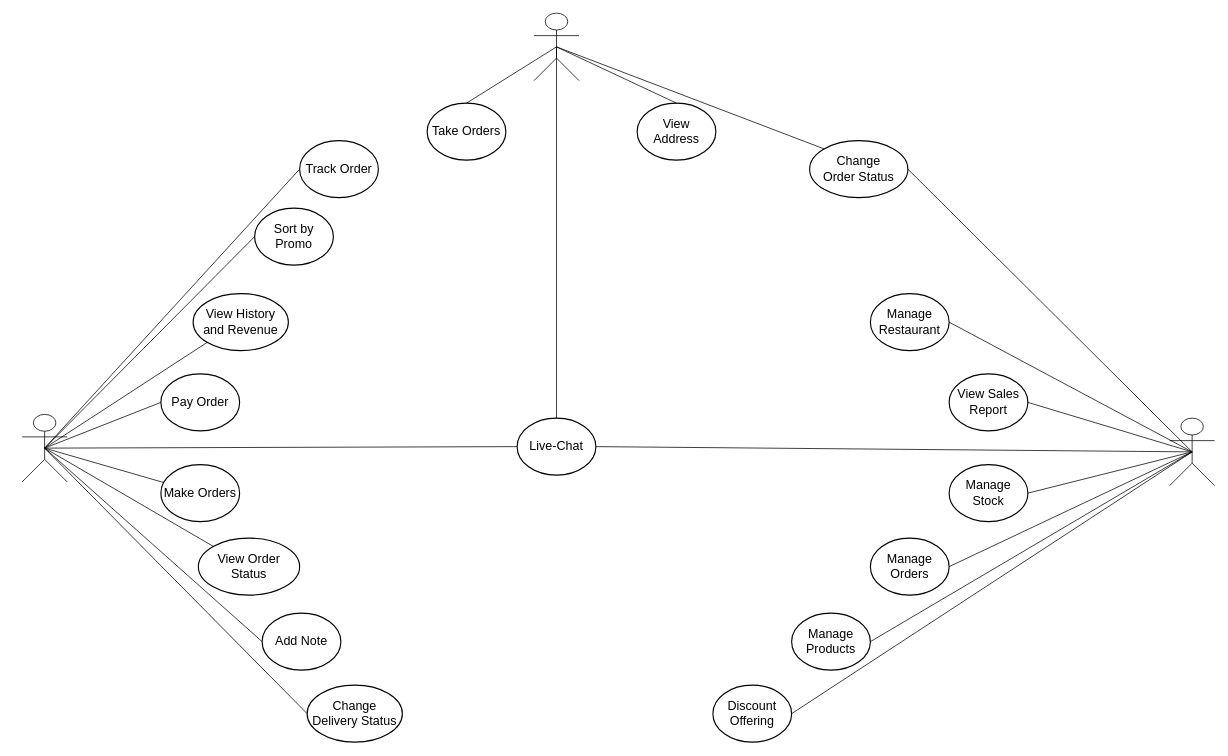
This 1228x756 diagram has some shape labels left out. The shapes that lost their labels are listed below. From the top down, each one's centre as x and y in pixels, then its label:
point 556,46: Driver
point 44,448: Customer
point 1192,451: Seller
